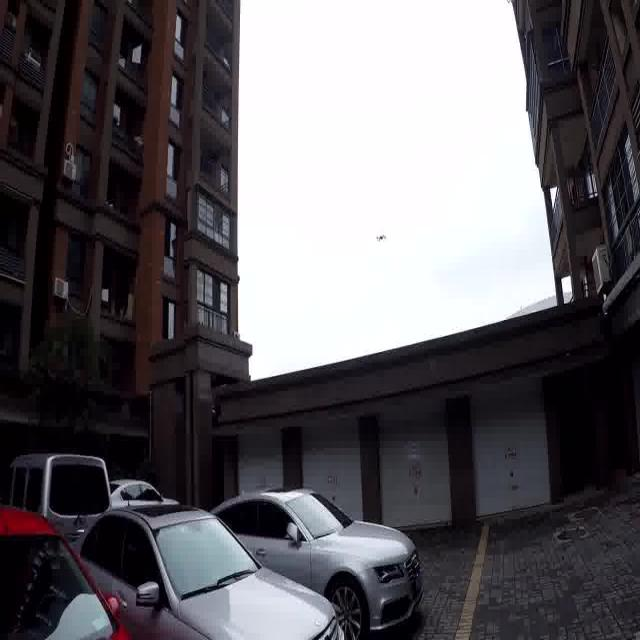drone: (372, 211, 398, 245)
